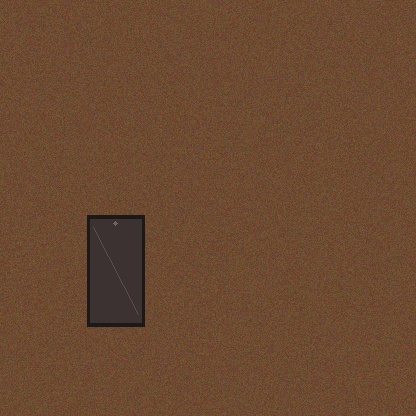cell_phone: (87, 215, 144, 326)
